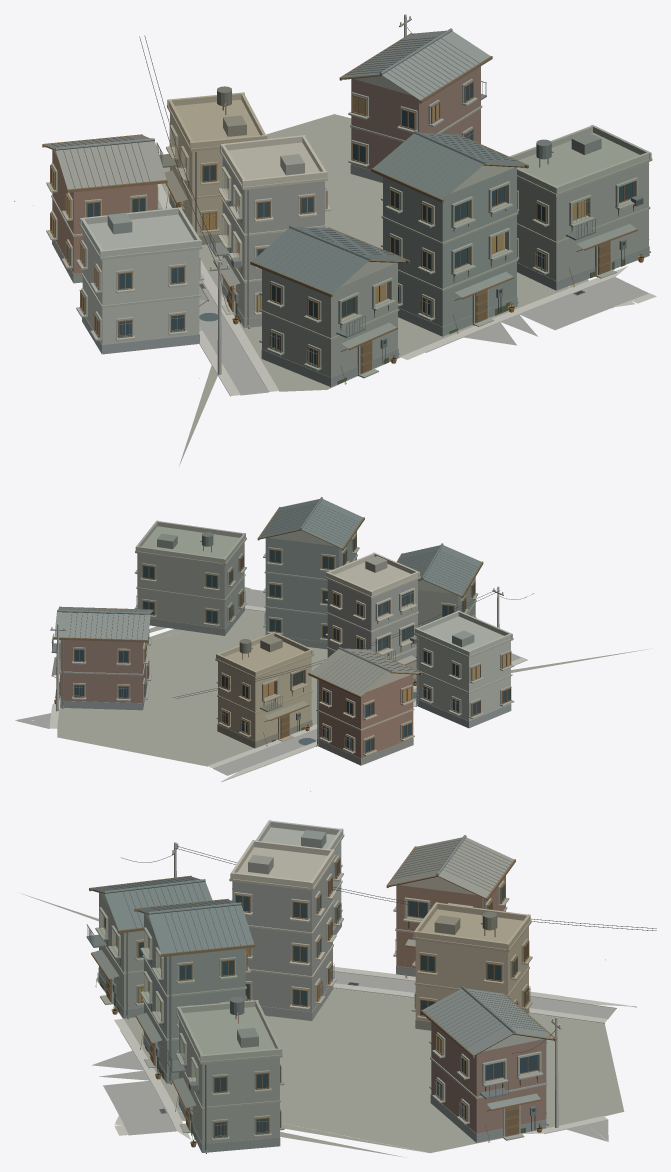
File: street_2_1.glb
3 renders of one model, top to bottom at view 1: azimuth 30°, elevation 25°; view 2: azimuth 150°, elevation 25°; view 3: azimuth 270°, elevation 25°, orthographic. The views are drawn at different scales.
Parts seen in each view (by area): view 1: trim.018, graybrick.017, plaster.018, concrete.016, roof_metal.018, roof_tile.012, ground.031, wood.018, brick.011, road, metal.018, glass.018 (+4 smaller); view 2: ground.031, plaster.018, trim.018, graybrick.017, brick.011, concrete.016, roof_metal.018, wood.018, roof_tile.012, glass.018, metal.018, road (+2 smaller); view 3: ground.031, trim.018, graybrick.017, plaster.018, roof_metal.018, brick.011, concrete.016, roof_tile.012, wood.018, metal.018, road, glass.018 (+2 smaller).
Part boxes in pixels (bbox=[...]): trim.018: bbox=[46, 78, 652, 378]; graybrick.017: bbox=[52, 157, 649, 386]; plaster.018: bbox=[53, 76, 651, 344]; concrete.016: bbox=[217, 14, 648, 377]; roof_metal.018: bbox=[44, 30, 636, 348]; roof_tile.012: bbox=[55, 28, 526, 293]; ground.031: bbox=[161, 114, 588, 466]; wood.018: bbox=[42, 33, 633, 380]; brick.011: bbox=[52, 66, 480, 273]; road: bbox=[158, 201, 648, 395]; metal.018: bbox=[50, 18, 650, 367]; glass.018: bbox=[51, 83, 632, 365]; ground.031: bbox=[57, 609, 651, 770]; plaster.018: bbox=[135, 520, 512, 741]; trim.018: bbox=[55, 526, 514, 755]; graybrick.017: bbox=[60, 531, 511, 765]; brick.011: bbox=[60, 640, 413, 758]; concrete.016: bbox=[56, 542, 499, 711]; roof_metal.018: bbox=[52, 533, 474, 719]; wood.018: bbox=[53, 507, 511, 753]; roof_tile.012: bbox=[57, 497, 481, 672]; glass.018: bbox=[74, 537, 510, 752]; metal.018: bbox=[50, 532, 503, 751]; road: bbox=[15, 588, 521, 775]; ground.031: bbox=[21, 893, 624, 1157]; trim.018: bbox=[95, 827, 547, 1141]; graybrick.017: bbox=[98, 862, 546, 1152]; plaster.018: bbox=[100, 820, 542, 1061]; roof_metal.018: bbox=[92, 830, 554, 1109]; brick.011: bbox=[396, 876, 545, 1133]; concrete.016: bbox=[99, 842, 558, 1143]; roof_tile.012: bbox=[91, 835, 515, 1033]; wood.018: bbox=[89, 846, 556, 1138]; metal.018: bbox=[86, 839, 561, 1153]; road: bbox=[92, 971, 616, 1141]; glass.018: bbox=[104, 858, 536, 1136].
Bounding box in the file's own units: 41.38 × 11.05 × 42.15.
